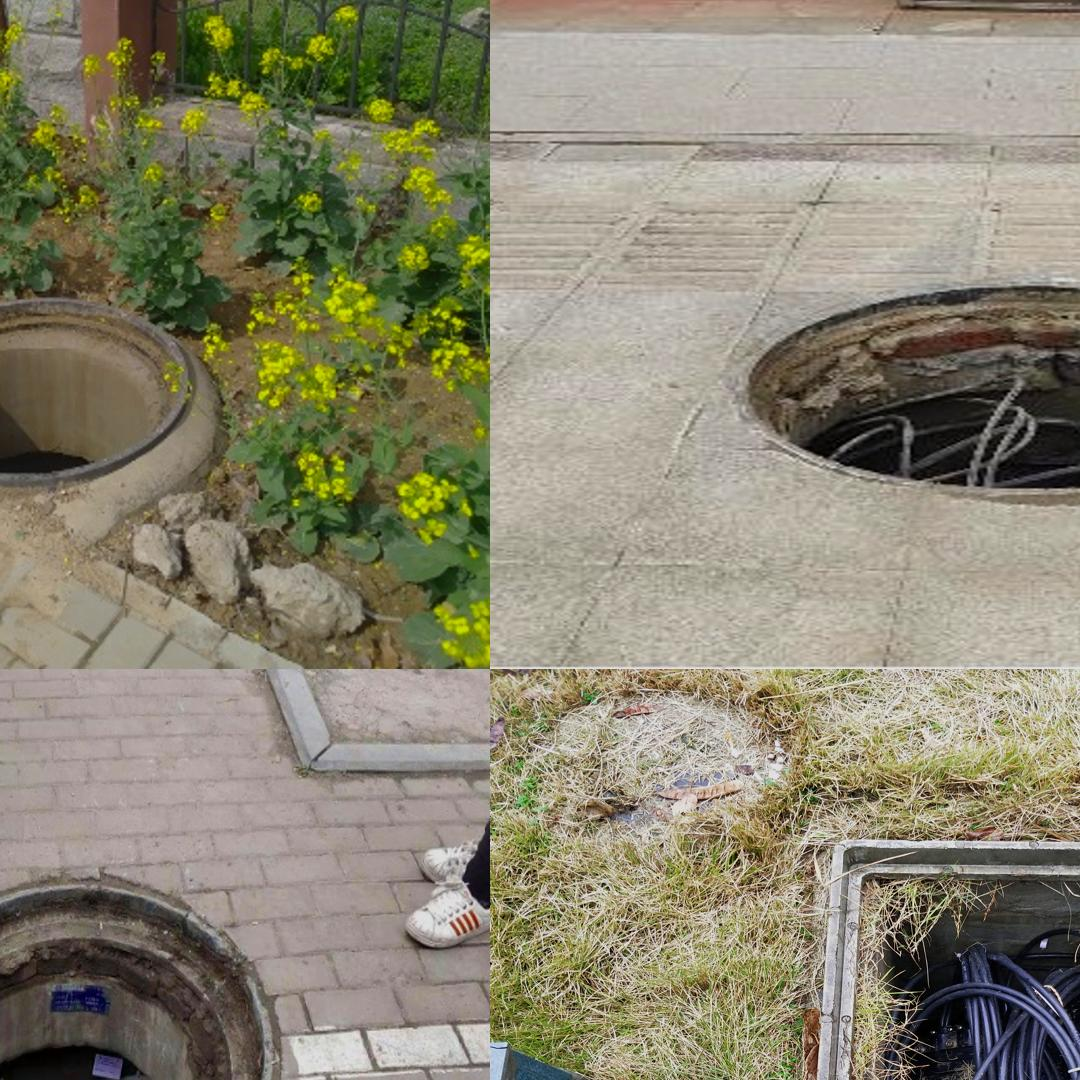lose: (698, 261, 1080, 510), (798, 829, 1080, 1080), (0, 865, 286, 1080), (0, 295, 196, 491)
